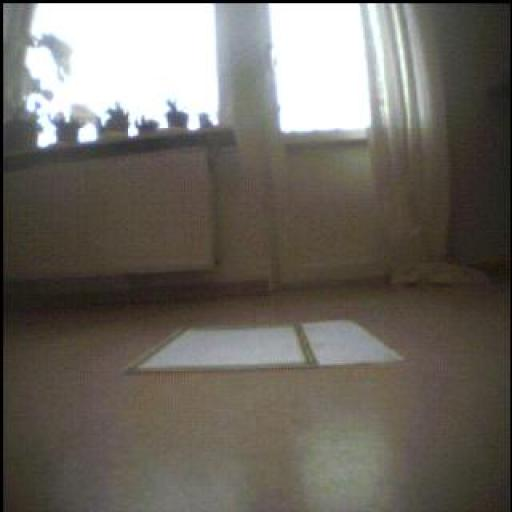Pad: (123, 324, 416, 366)
